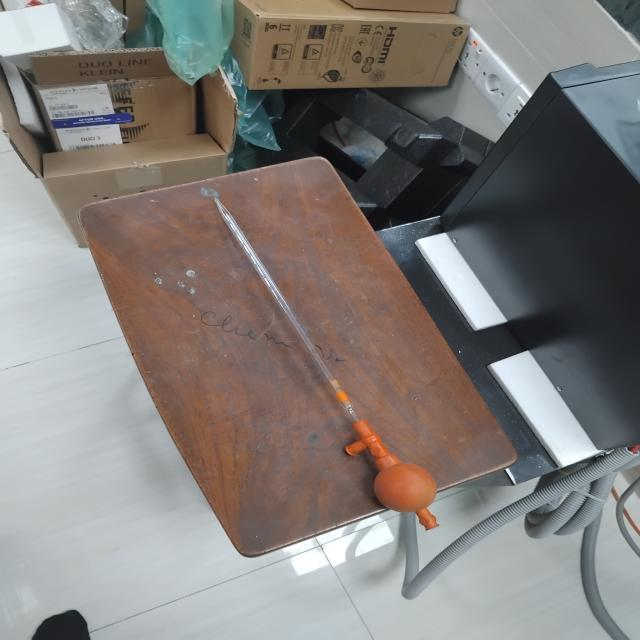Volumetric_Pipet: (188, 161, 465, 550)
